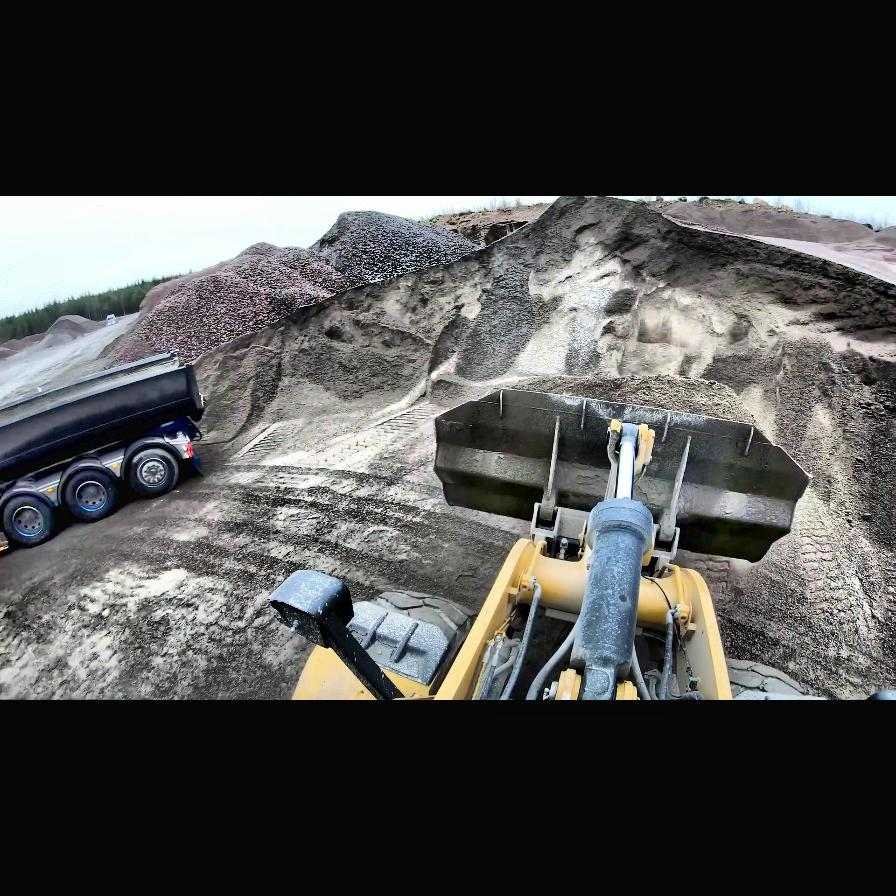anchor: (606, 419, 656, 499)
pile of gravel: (192, 196, 896, 496), (111, 211, 457, 377), (647, 198, 895, 304), (38, 314, 104, 344), (1, 336, 43, 356)
